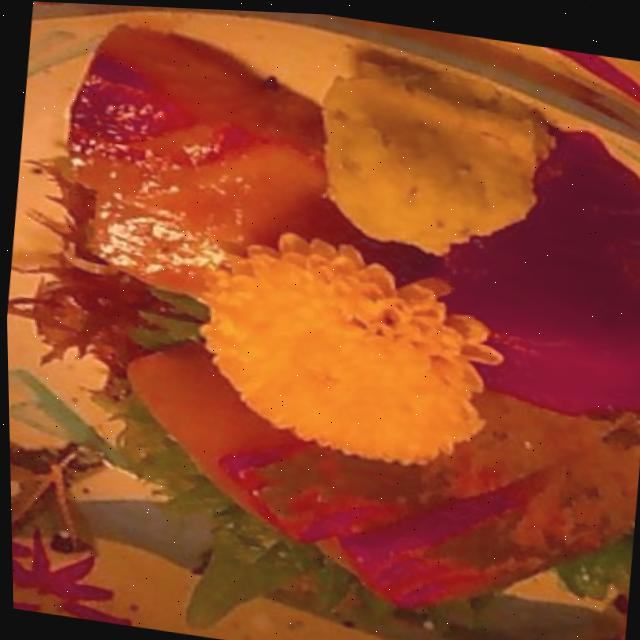刺身生食: (32, 32, 640, 619)
